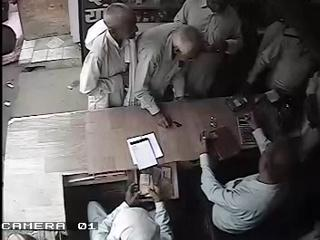Normal: (198, 130, 296, 240), (234, 0, 317, 100), (132, 22, 202, 128), (172, 0, 244, 100), (88, 182, 174, 240)
shoplifting: (78, 2, 138, 111)
